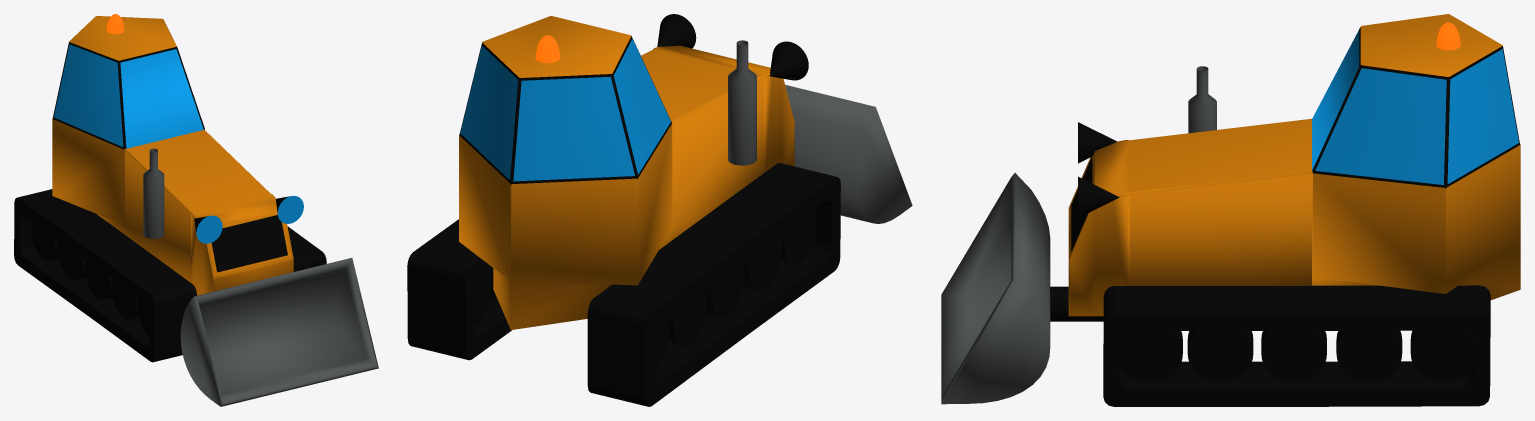
The picture shows the model from 3 angles, left to right: view 1: azimuth 30°, elevation 25°; view 2: azimuth 150°, elevation 25°; view 3: azimuth 270°, elevation 25°; orthographic projection. The views are drawn at different scales.
Parts seen in each view (by area): view 1: Cube, Plane, Cylinder.001, Cylinder.003, Cone, Cylinder.002; view 2: Cube, Cylinder.001, Plane, Cylinder.002, Cylinder.003, Cone, Sphere; view 3: Cube, Cylinder.002, Plane, Cone, Cylinder.003, Cylinder, Sphere.
Part boxes in pixels (x1,y1,x2,y2): Cube: (52,16,293,295); Plane: (180,258,378,406); Cylinder.001: (14,189,196,362); Cylinder.003: (143,148,164,238); Cone: (194,195,303,243); Cylinder.002: (287,226,326,271); Cube: (459,16,794,329); Cylinder.001: (587,163,840,406); Plane: (785,85,912,223); Cylinder.002: (407,219,511,360); Cylinder.003: (728,40,756,165); Cone: (657,14,808,80); Sphere: (535,35,559,63); Cube: (1068,14,1520,316); Cylinder.002: (1103,285,1490,406); Plane: (941,173,1050,404); Cone: (1078,122,1119,217); Cylinder.003: (1188,66,1216,133); Cylinder: (1050,286,1103,321); Sphere: (1436,22,1460,50).
Bounding box in the file's own units: 4.29 × 9.06 × 5.66.
